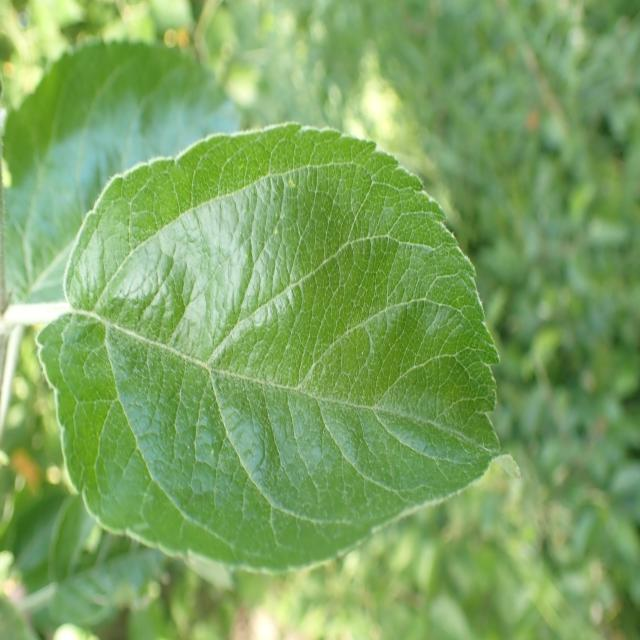healthy: (35, 121, 523, 574), (1, 36, 243, 325)
